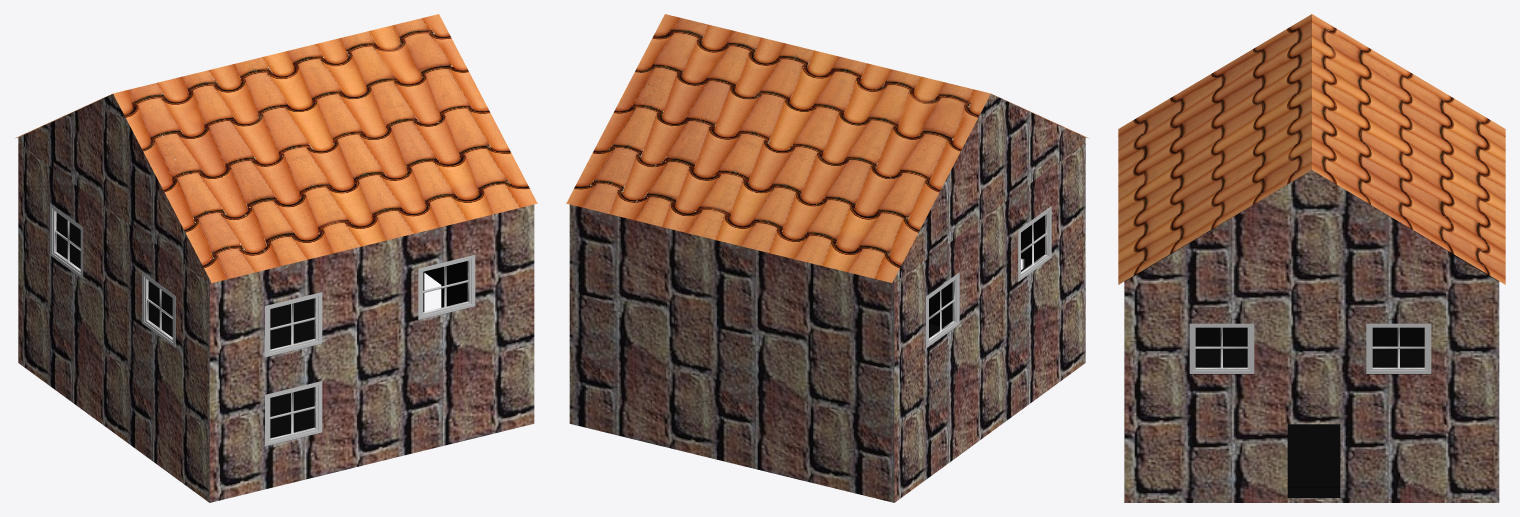
The model's file is house 2floor.fbx.
The picture shows the model from 3 angles, left to right: view 1: azimuth 30°, elevation 25°; view 2: azimuth 150°, elevation 25°; view 3: azimuth 270°, elevation 25°; orthographic projection.
Parts seen in each view (by area): view 1: dom2floor.001, roof ogol.001, Window Frame Ac 1.018, Window Frame Ac 1.017, Window Frame Ac 1.019, Window Frame Ac 1.025, Window Frame Ac 1.010; view 2: dom2floor.001, roof ogol.001, Window Frame Ac 1.010, Window Frame Ac 1.025; view 3: dom2floor.001, roof ogol.001, Window Frame Ac 1.008, Window Frame Ac 1.011.
Boxes of the visible parts, bbox=[...] form: dom2floor.001: bbox=[18, 94, 534, 502]; roof ogol.001: bbox=[15, 14, 537, 282]; Window Frame Ac 1.018: bbox=[265, 292, 322, 357]; Window Frame Ac 1.017: bbox=[418, 255, 475, 319]; Window Frame Ac 1.019: bbox=[265, 381, 322, 446]; Window Frame Ac 1.025: bbox=[142, 271, 175, 347]; Window Frame Ac 1.010: bbox=[50, 203, 83, 278]; dom2floor.001: bbox=[569, 94, 1085, 502]; roof ogol.001: bbox=[566, 14, 1088, 282]; Window Frame Ac 1.010: bbox=[926, 272, 959, 348]; Window Frame Ac 1.025: bbox=[1018, 206, 1051, 281]; dom2floor.001: bbox=[1124, 170, 1499, 502]; roof ogol.001: bbox=[1118, 14, 1505, 284]; Window Frame Ac 1.008: bbox=[1366, 323, 1431, 373]; Window Frame Ac 1.011: bbox=[1189, 323, 1254, 373].
Bounding box in the file's own units: 2314 × 2304 × 2428.
